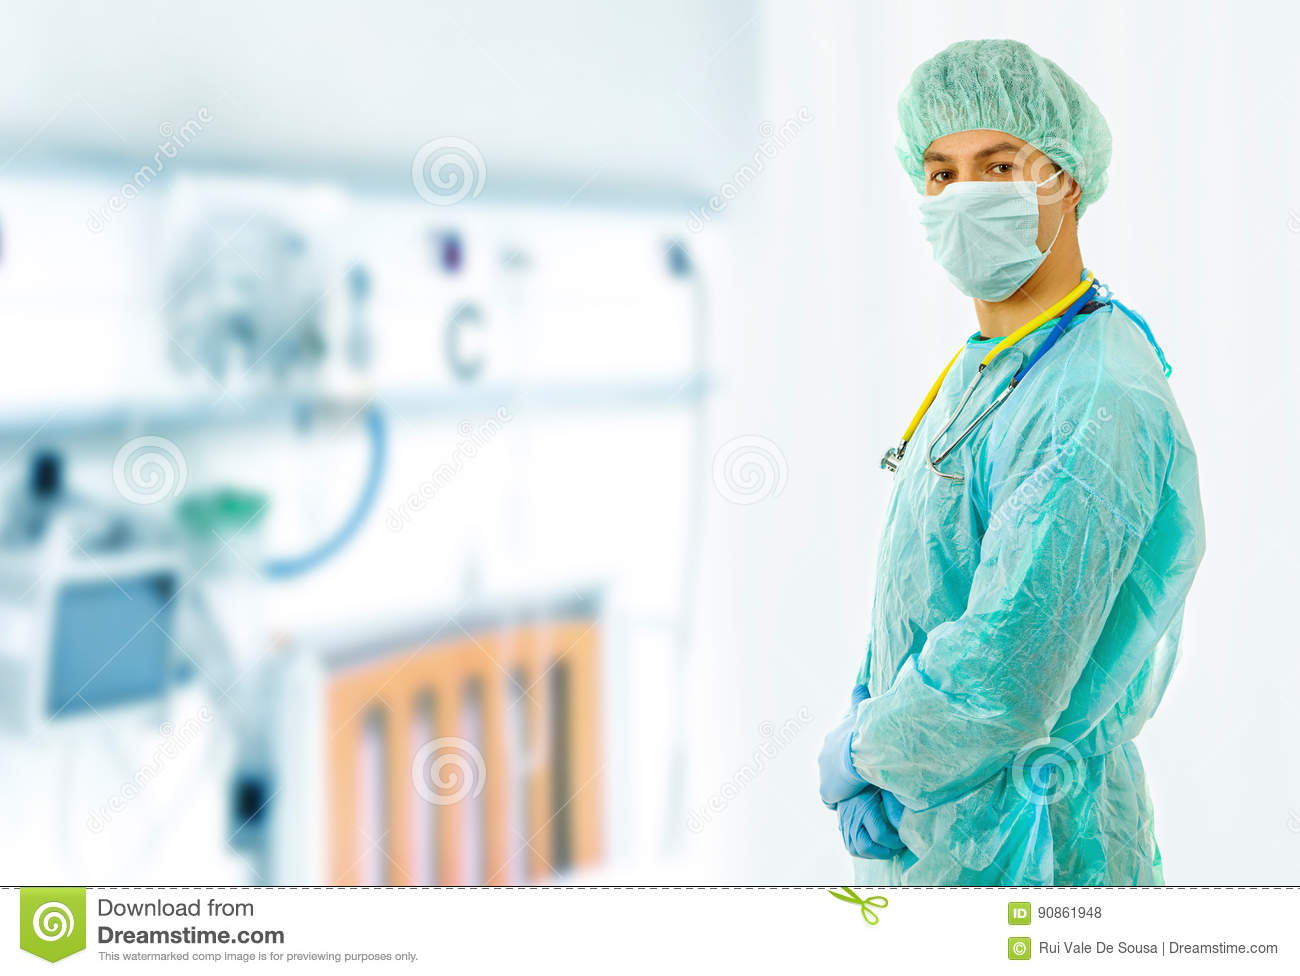mask: (917, 181, 1065, 312)
